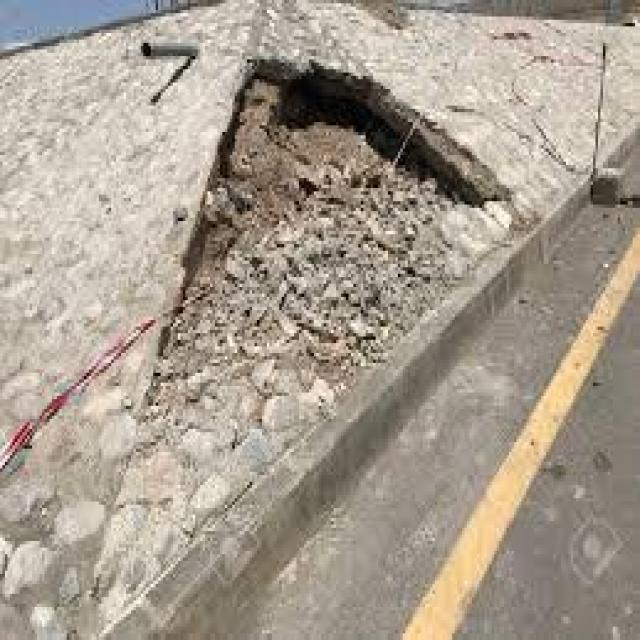curb: (142, 171, 602, 640), (583, 112, 638, 205)
